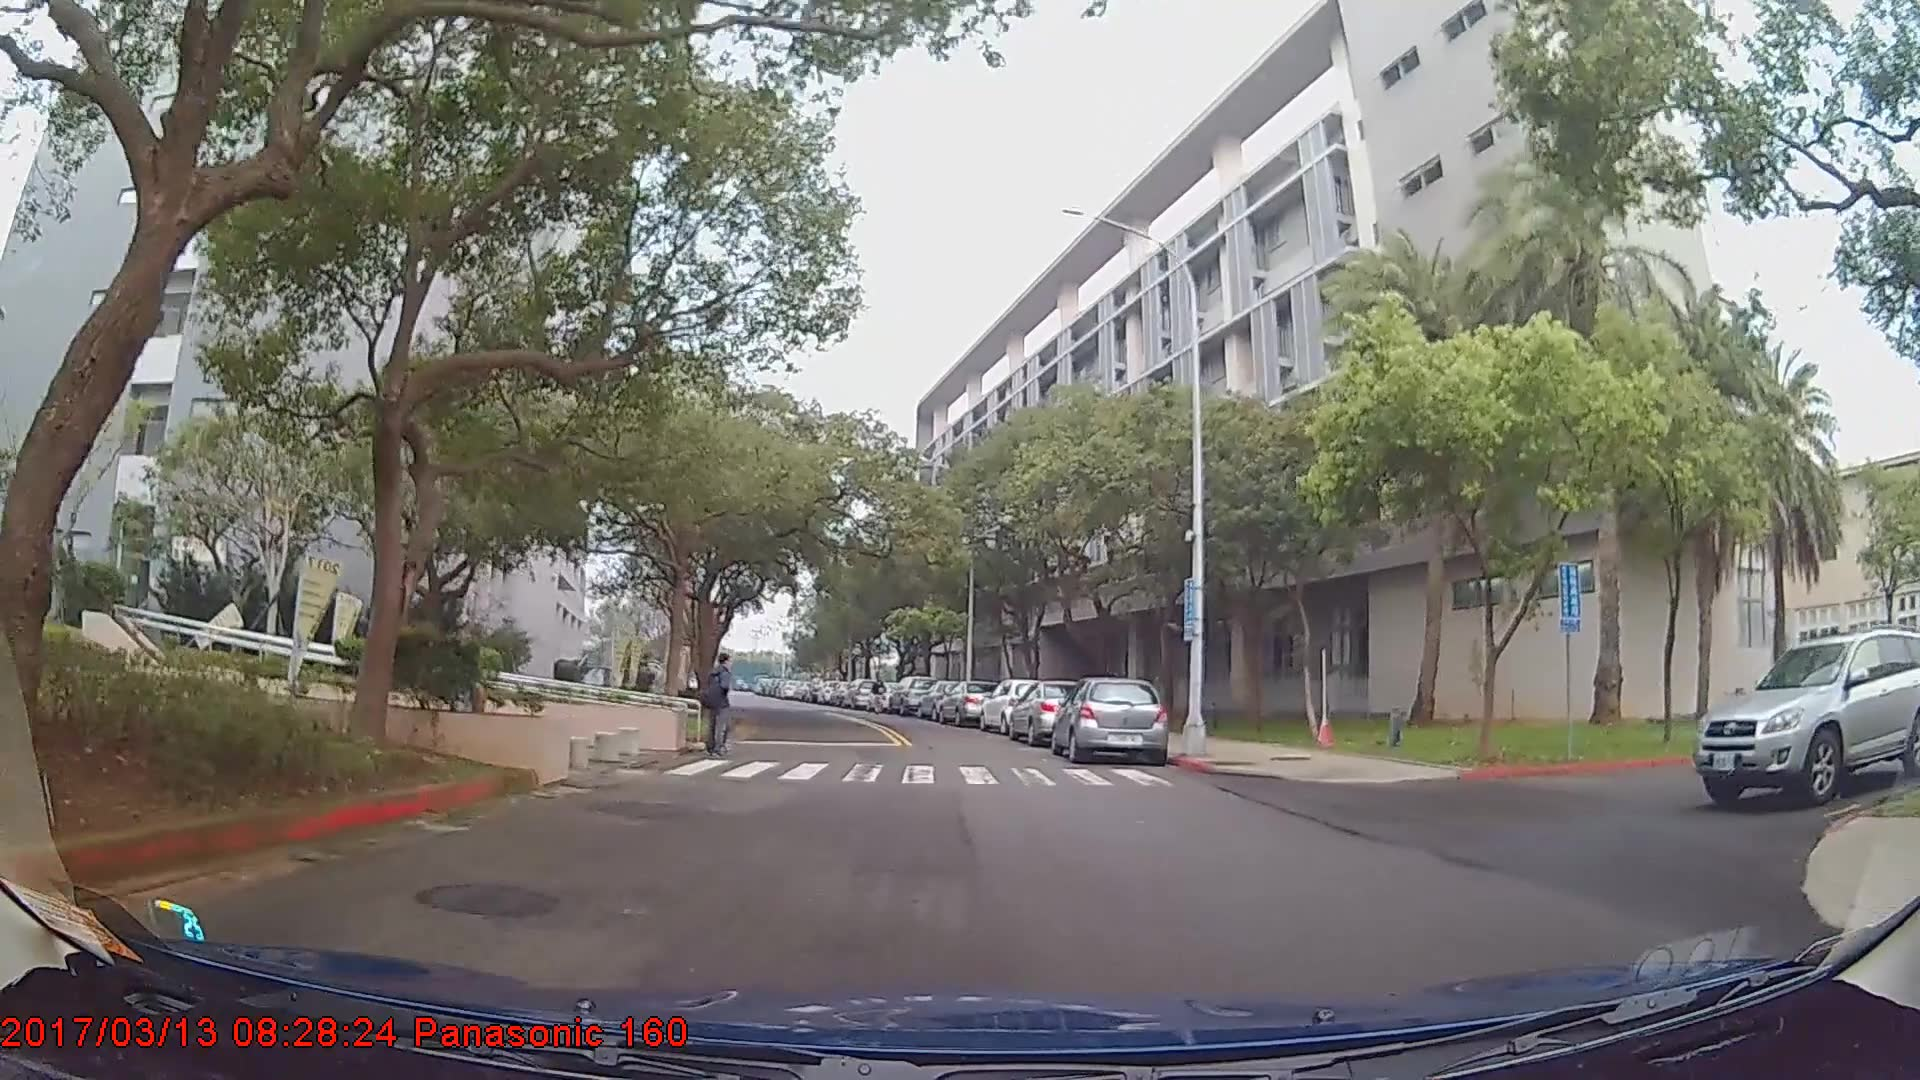pedestrian: (703, 658, 743, 769), (869, 674, 889, 716)
vehicle: (1692, 627, 1920, 808), (1049, 676, 1167, 764), (1006, 681, 1097, 746), (978, 679, 1057, 735), (935, 680, 1001, 728), (886, 673, 936, 715)
